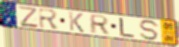K: (68, 11, 86, 34)
L: (119, 17, 136, 38)
R: (37, 7, 61, 30), (89, 14, 110, 35)
S: (139, 19, 161, 42)
Z: (17, 5, 40, 28)
